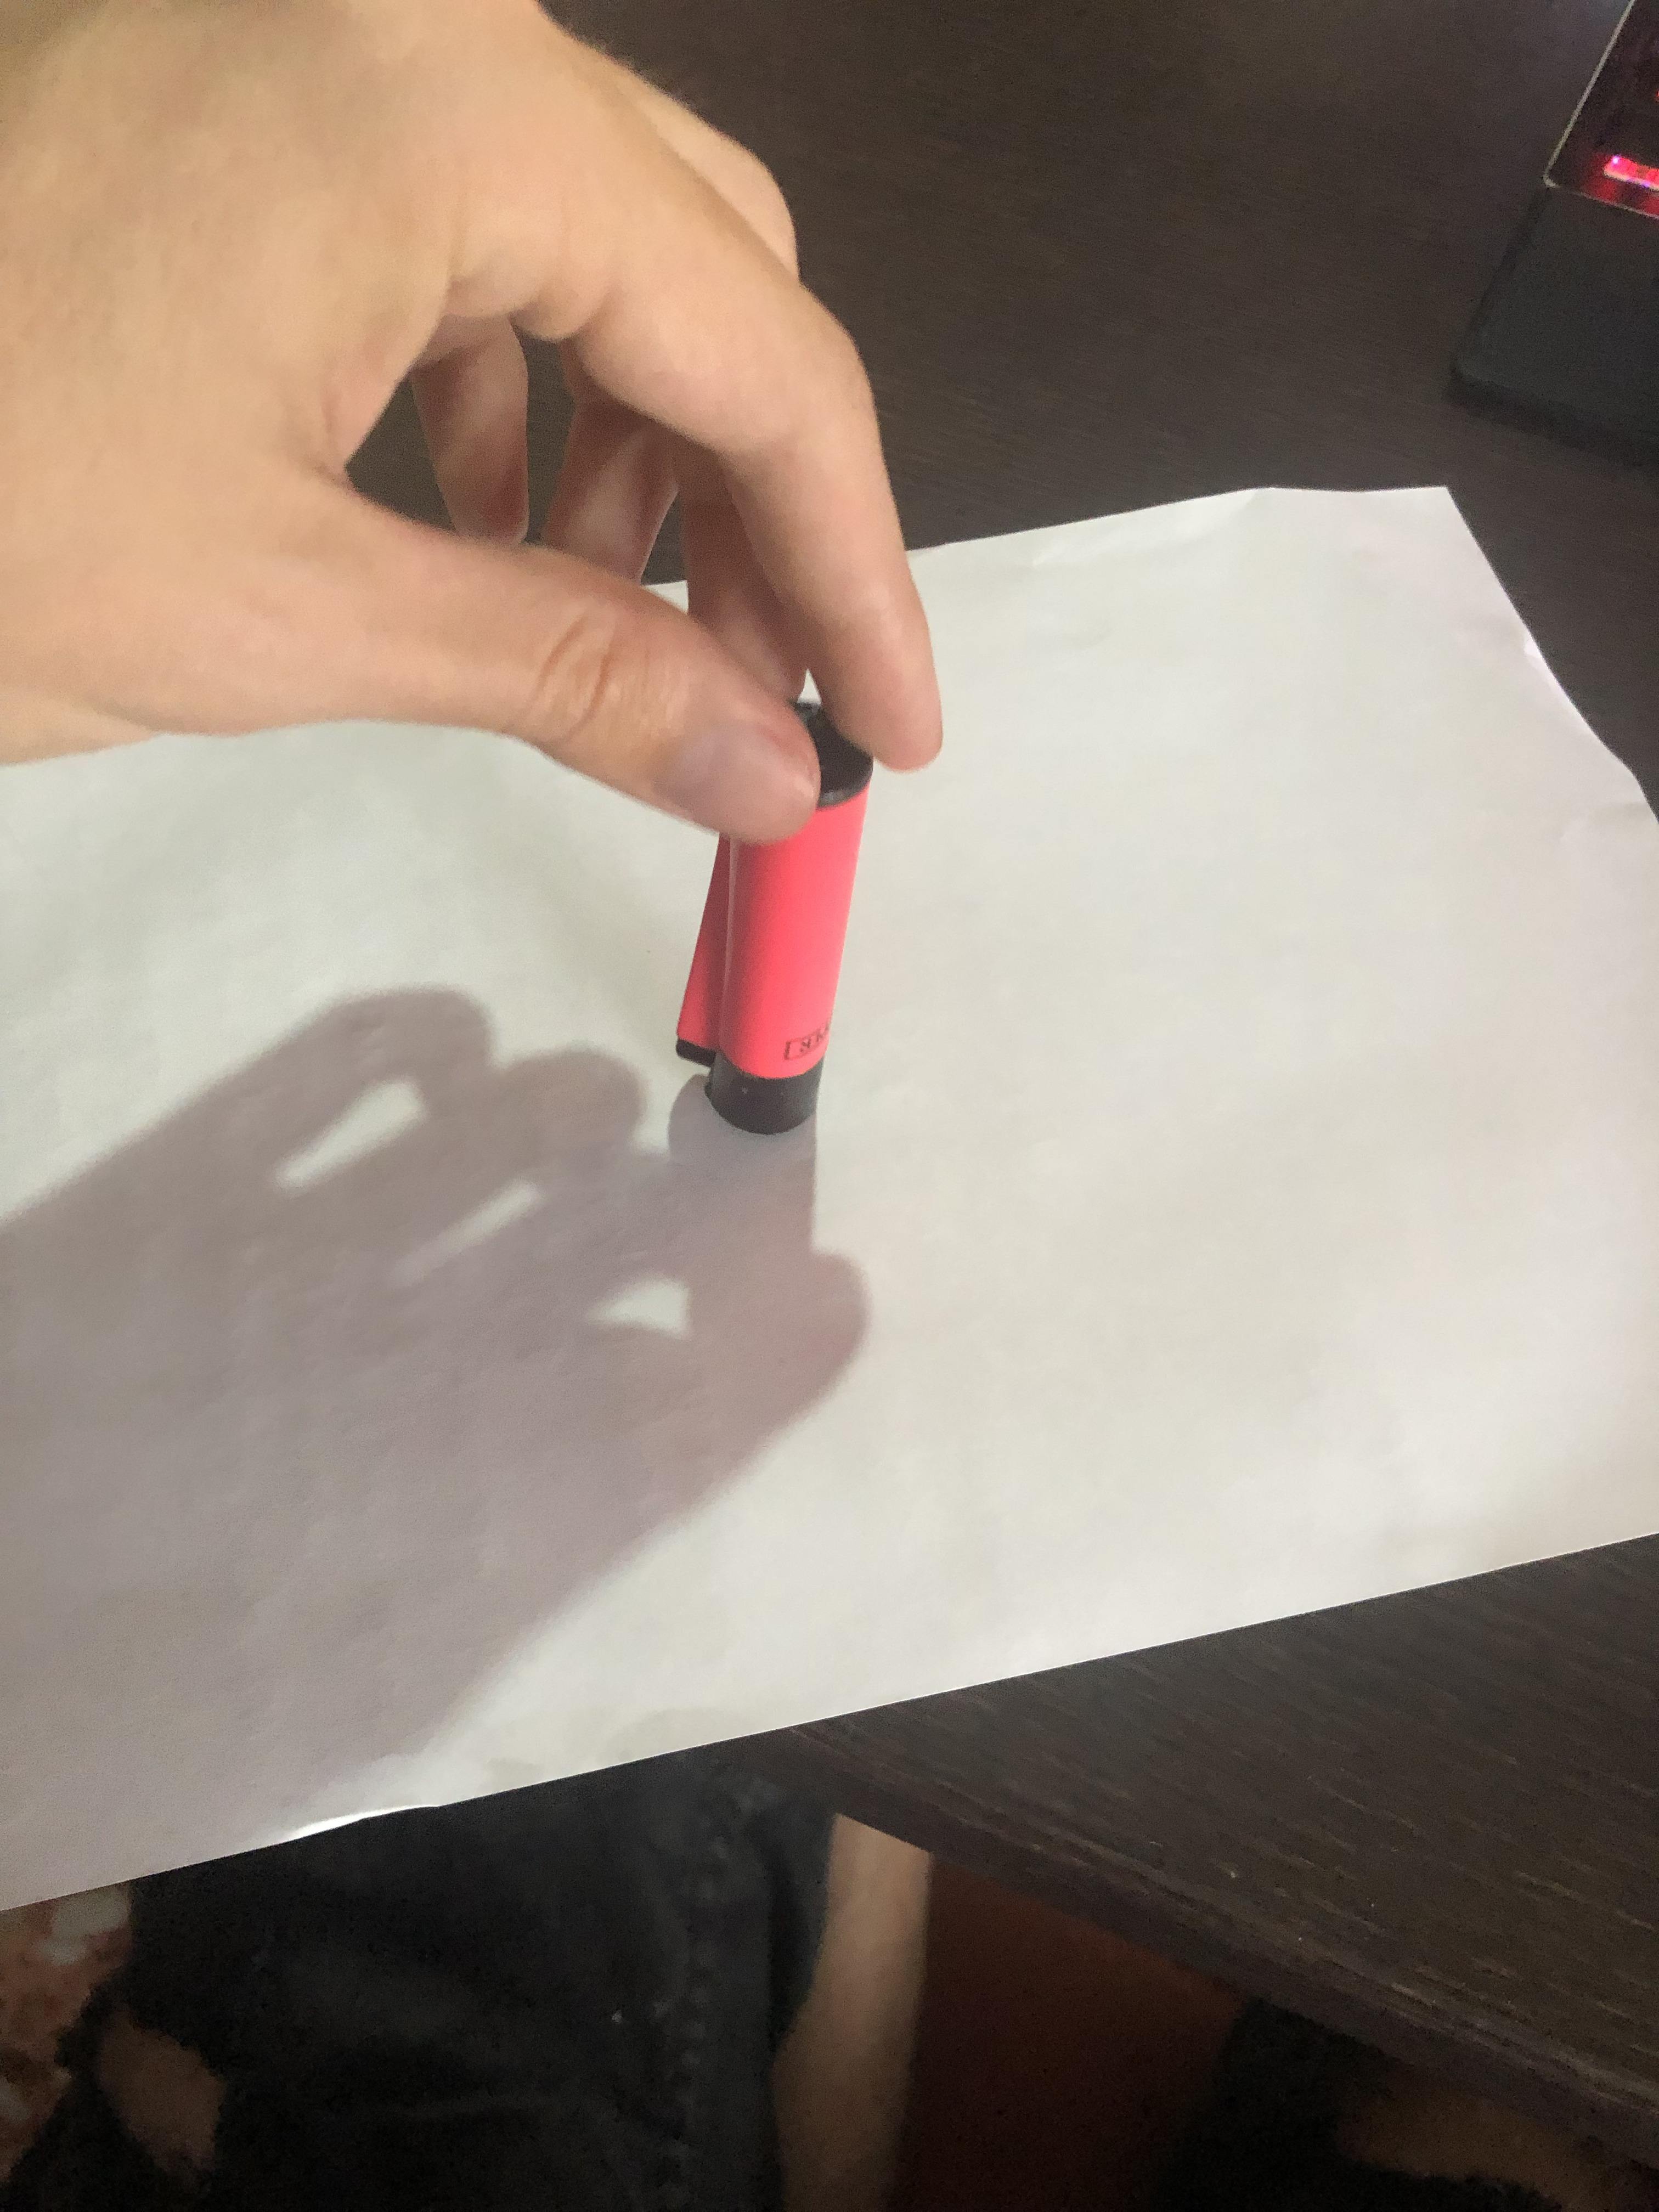Mechero: (660, 833, 870, 1188)
